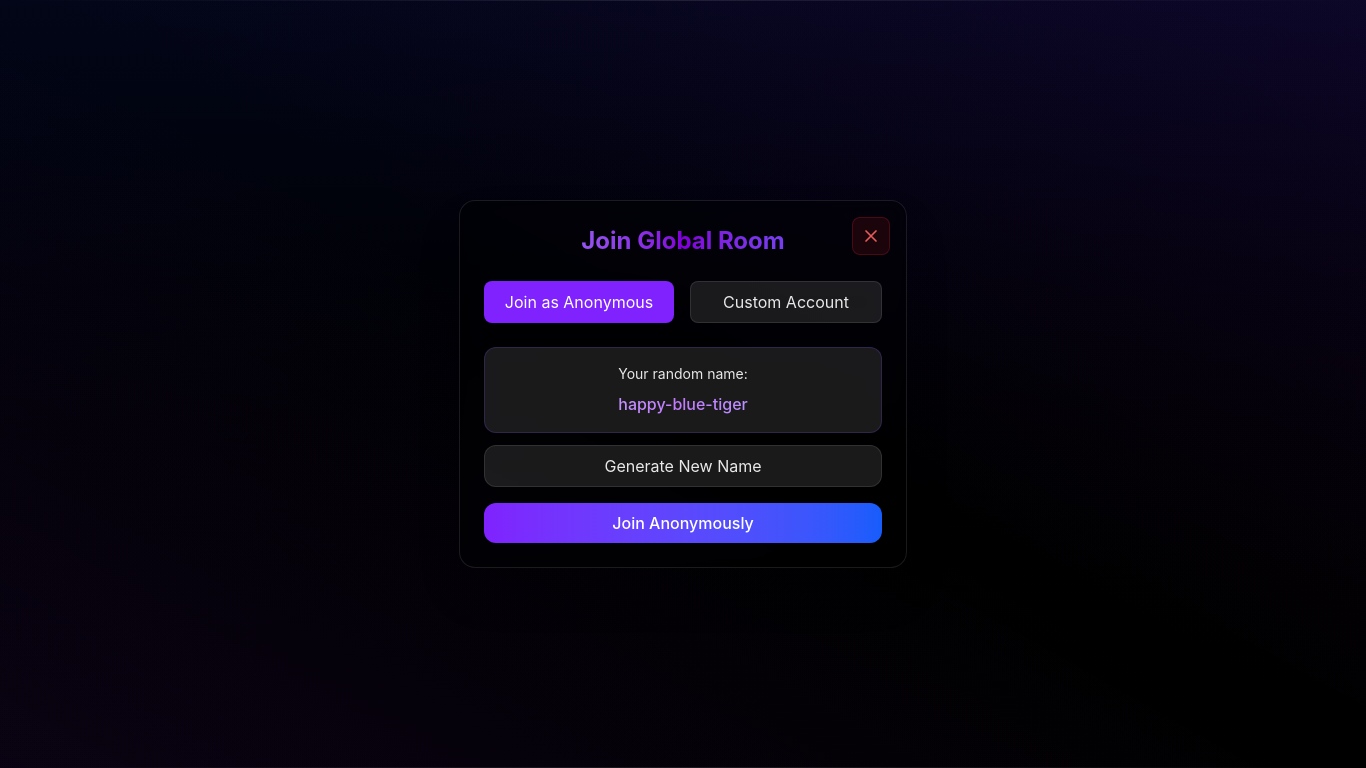
Test: JoinRoom › anonymous join flow › surfaces an error when anonymous signup fails
Expected: the text "happy-blue-tiger" is shown, [501,392,865,416]
Click the button "Join Anonymously" at coordinates (683, 523), box [484,503,882,543]
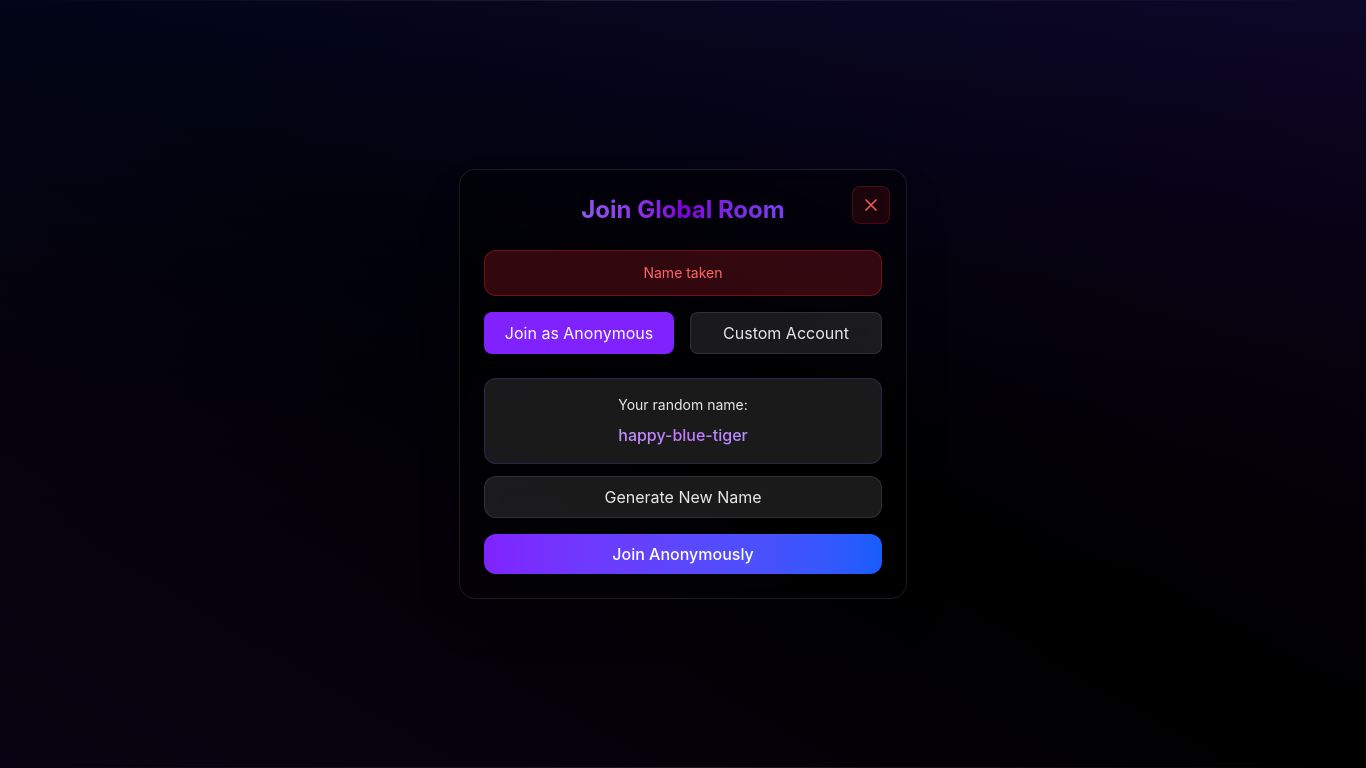
Expected: the text "Name taken" is shown, [484,250,882,296]
